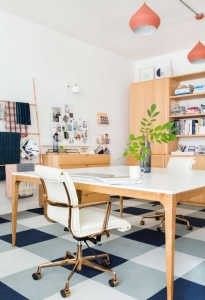chair: (32, 164, 131, 298)
